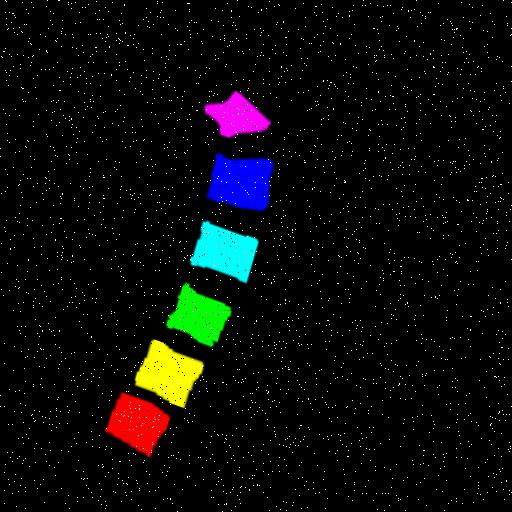L1: (99, 391, 162, 455)
L2: (128, 337, 197, 406)
L3: (161, 283, 225, 344)
L4: (186, 220, 254, 280)
L5: (203, 150, 270, 208)
S1: (202, 90, 267, 136)
